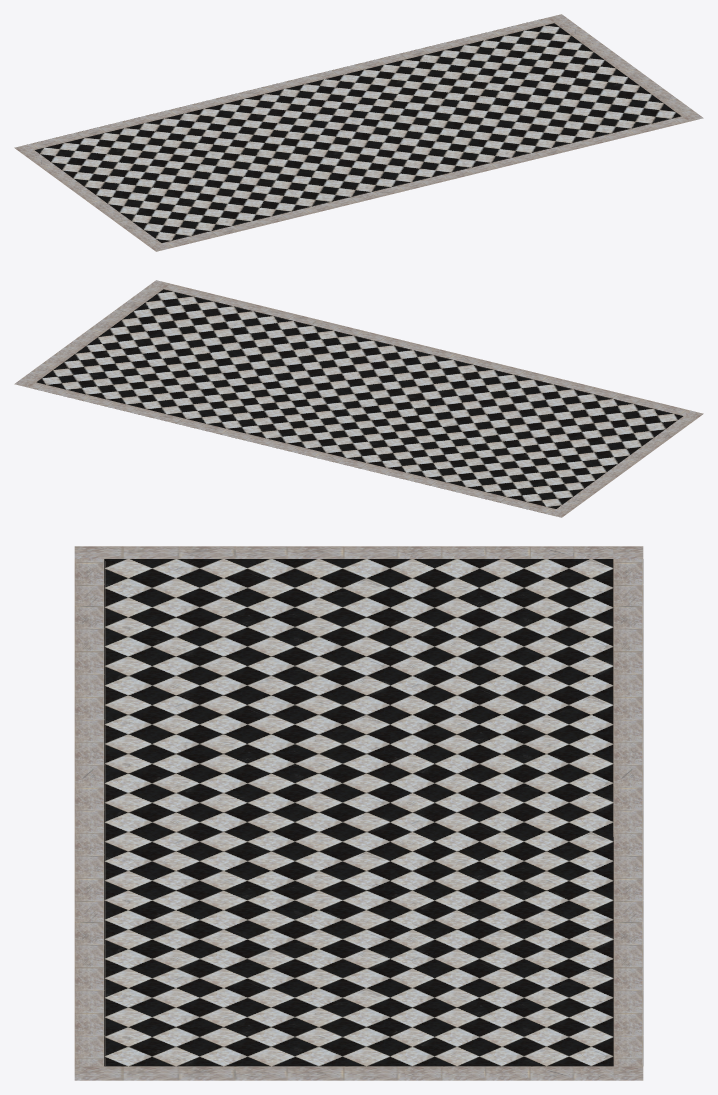
The model's file is dining_floor.fbx.
3 renders of one model, top to bottom at view 1: azimuth 30°, elevation 25°; view 2: azimuth 150°, elevation 25°; view 3: azimuth 270°, elevation 25°, orthographic. The views are drawn at different scales.
Visible parts, largest first — view 1: polySurface1548; view 2: polySurface1548; view 3: polySurface1548.
Part boxes in pixels (x1,y1,x2,y2): polySurface1548: [14, 14, 703, 251]; polySurface1548: [14, 280, 703, 517]; polySurface1548: [74, 546, 643, 1080].
Size of the model in its own units: 1780 by 9.08e-14 by 800.
